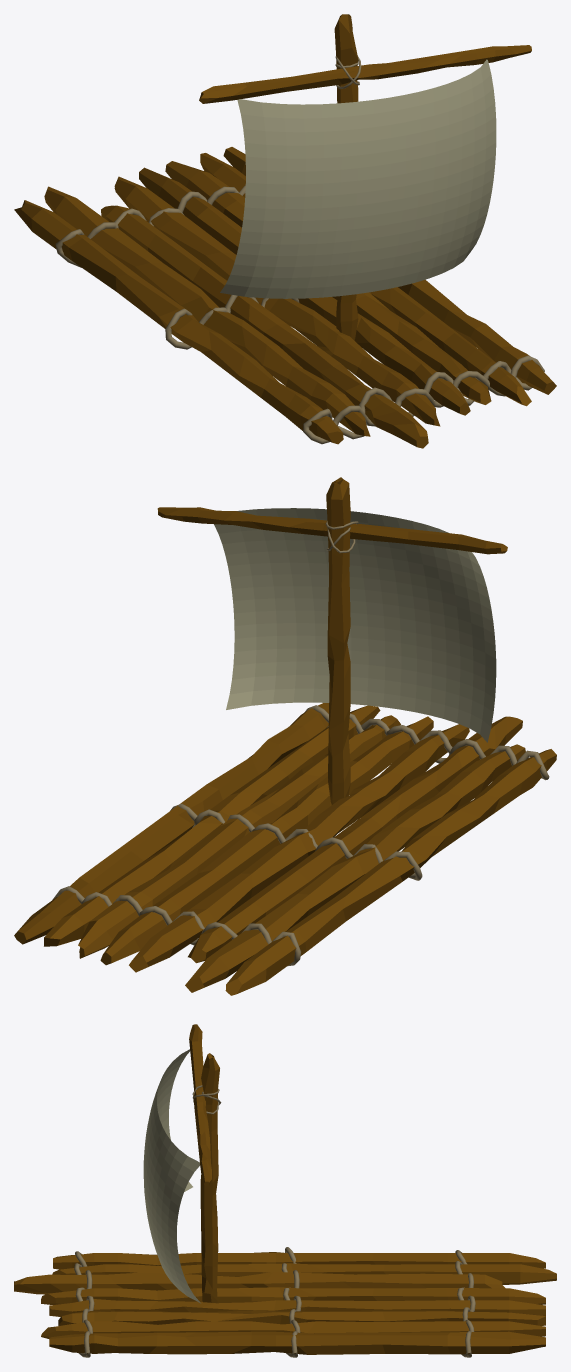
The model's file is short_sail.glb.
3 views of the same model, one above another, from view 1: azimuth 30°, elevation 25°; view 2: azimuth 150°, elevation 25°; view 3: azimuth 270°, elevation 25° (orthographic). The views are drawn at different scales.
Visible parts, largest first — view 1: Base, Sail, Mast, Ropes; view 2: Base, Sail, Mast, Ropes; view 3: Base, Sail, Mast, Ropes.
Part boxes in pixels (left/top/right/bottom): Base: left=14, top=147, right=556, bottom=448; Sail: left=220, top=59, right=496, bottom=298; Mast: left=199, top=14, right=531, bottom=340; Ropes: left=55, top=56, right=544, bottom=444; Base: left=14, top=703, right=556, bottom=995; Sail: left=214, top=508, right=496, bottom=742; Mast: left=157, top=477, right=507, bottom=804; Ropes: left=52, top=521, right=549, bottom=966; Base: left=14, top=1252, right=556, bottom=1354; Sail: left=143, top=1049, right=200, bottom=1303; Mast: left=189, top=1024, right=219, bottom=1303; Ropes: left=74, top=1085, right=475, bottom=1357.
Size of the model in its own units: 26.69 by 25.89 by 47.8.
